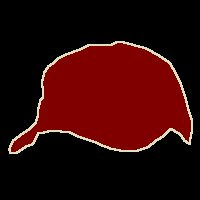hat: (9, 42, 192, 153)
